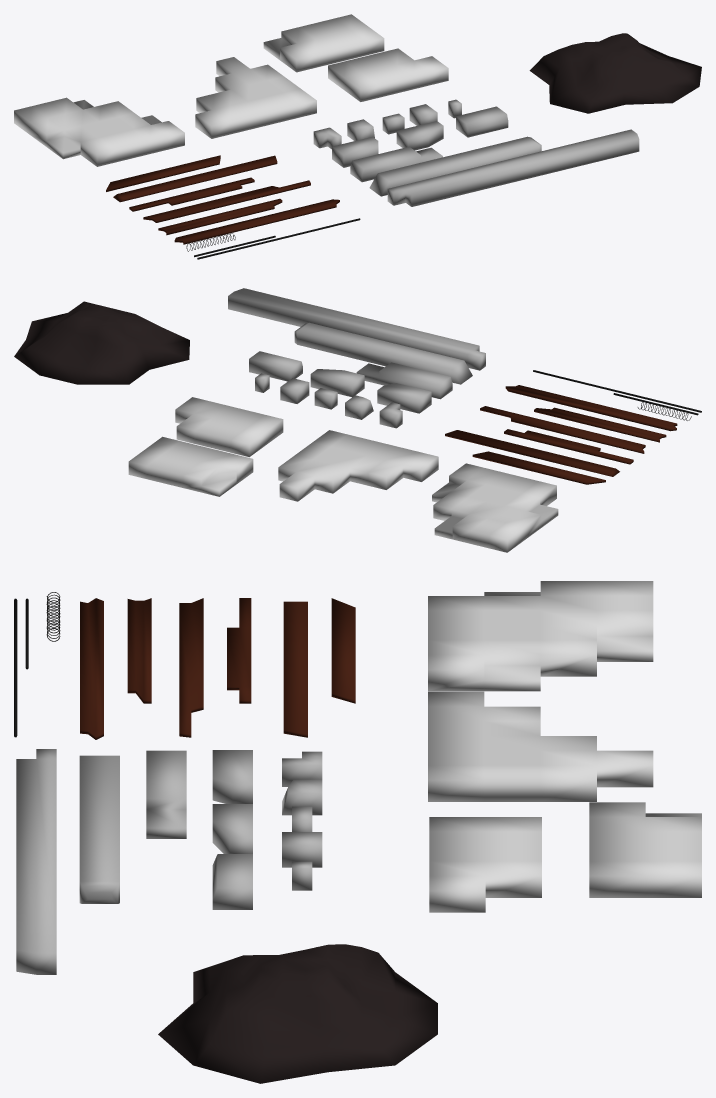
Rendered from Rubble.obj.
3 renders of one model, top to bottom at view 1: azimuth 30°, elevation 25°; view 2: azimuth 150°, elevation 25°; view 3: azimuth 270°, elevation 25°, orthographic. The views are drawn at different scales.
Parts seen in each view (by area): view 1: Debris_pile, Techo_03, Techo_01, Techo_02, Beam_long, Beam_medium, Beam_short, Long_wood_03, Long_wood_01, Long_wood_02, Bloque_med_03, Short_wood_01 (+8 smaller); view 2: Debris_pile, Techo_03, Techo_01, Techo_02, Beam_long, Beam_medium, Beam_short, Long_wood_03, Long_wood_01, Long_wood_02, Short_wood_01, Short_wood_03 (+9 smaller); view 3: Debris_pile, Techo_01, Techo_03, Techo_02, Beam_long, Beam_medium, Beam_short, Long_wood_03, Long_wood_01, Long_wood_02, Short_wood_01, Short_wood_03 (+7 smaller).
Boxes of the visible parts, x1,y1,x2,y2 form: Debris_pile: (529,33,701,113); Techo_03: (263,14,448,101); Techo_01: (14,97,184,166); Techo_02: (195,57,316,138); Beam_long: (387,129,639,206); Beam_medium: (369,136,541,196); Beam_short: (350,146,442,182); Long_wood_03: (113,155,277,202); Long_wood_01: (174,199,339,244); Long_wood_02: (143,180,310,222); Bloque_med_03: (456,106,508,137); Short_wood_01: (158,198,282,235); Debris_pile: (14,301,189,384); Techo_03: (128,397,283,496); Techo_01: (432,463,558,552); Techo_02: (278,430,438,501); Beam_long: (228,288,485,370); Beam_medium: (294,322,472,384); Beam_short: (356,362,452,399); Long_wood_03: (445,430,619,476); Long_wood_01: (505,385,677,431); Long_wood_02: (480,406,645,453); Short_wood_01: (534,407,666,442); Short_wood_03: (472,451,605,484); Debris_pile: (158,944,437,1083); Techo_01: (428,581,653,691); Techo_03: (429,802,701,912); Techo_02: (428,691,653,801); Beam_long: (16,749,56,974); Beam_medium: (79,755,119,903); Beam_short: (146,750,186,838); Long_wood_03: (283,601,307,737); Long_wood_01: (80,598,103,739); Long_wood_02: (179,598,203,737); Short_wood_01: (127,598,151,703); Short_wood_03: (331,598,355,703).
Size of the model in its own units: 279 by 15.9 by 168.
